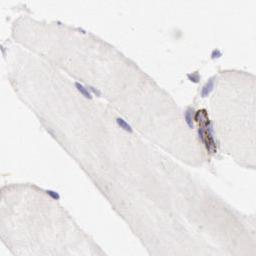nucleus: (116, 118, 134, 133), (75, 83, 92, 98), (185, 106, 194, 130), (202, 79, 215, 95), (187, 73, 200, 84), (211, 48, 223, 59), (88, 85, 101, 95), (47, 189, 60, 199), (199, 129, 204, 140), (209, 124, 215, 132), (199, 116, 204, 121), (81, 30, 86, 34), (58, 21, 61, 24)
positive_cell: (198, 127, 209, 152), (208, 124, 219, 148), (195, 108, 210, 125)
